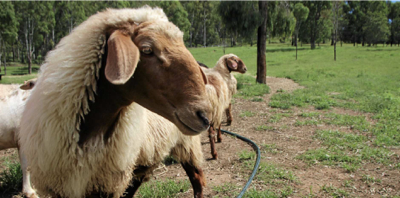koyun: (49, 9, 209, 194), (217, 55, 249, 74)
